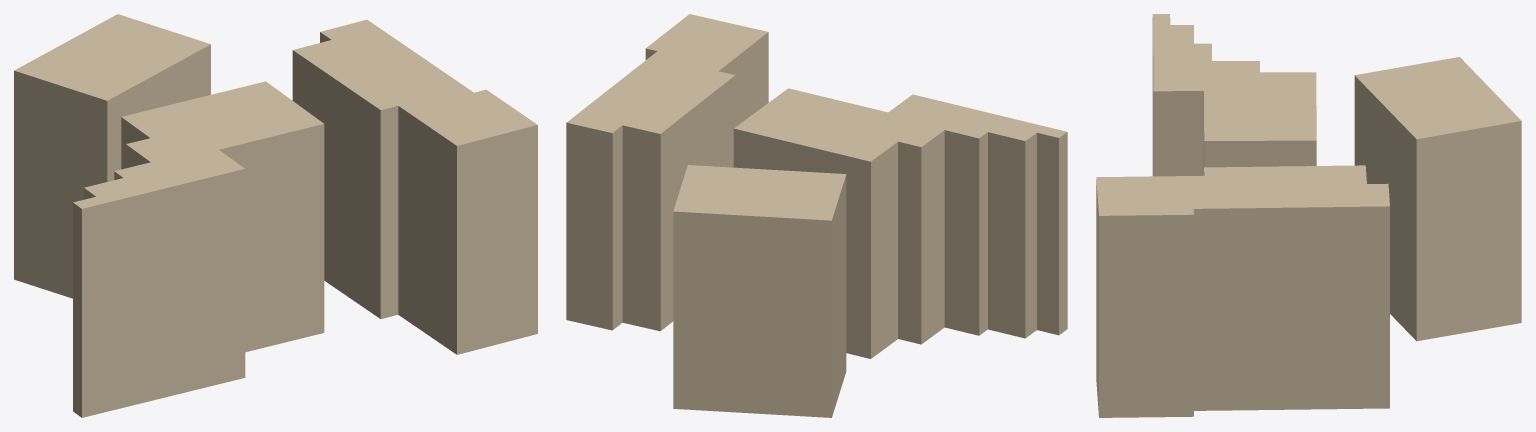
File: 17_2-estimated-coarse.glb
3 renders of one model, left to right at view 1: azimuth 30°, elevation 25°; view 2: azimuth 150°, elevation 25°; view 3: azimuth 270°, elevation 25°, orthographic. The views are drawn at different scales.
Size of the model in its own units: 103 by 48 by 91.6.
